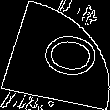O_W: (17, 27, 93, 83)
